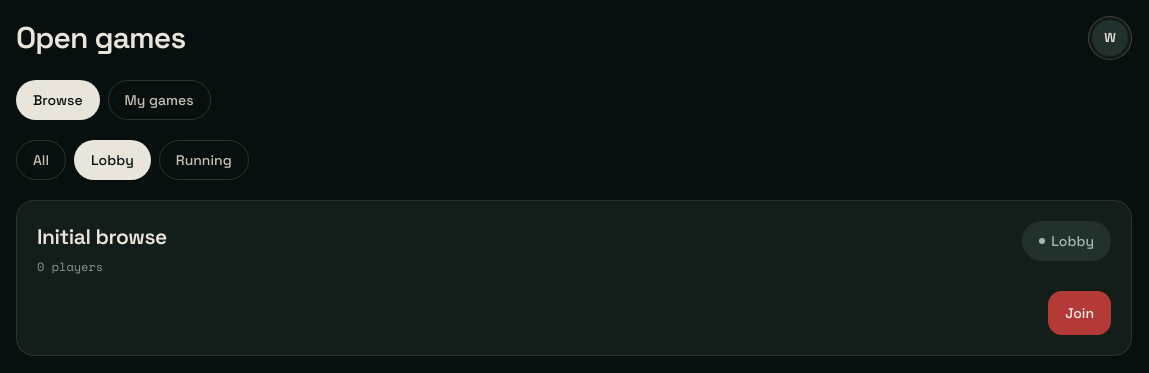
Test case: browser: ignores a late My games response after switching back to Browse
Expected: the heading "Initial browse" is shown, 37,221 -> 167,252
Click the tab "My games": (159, 100) 108,80 -> 211,120
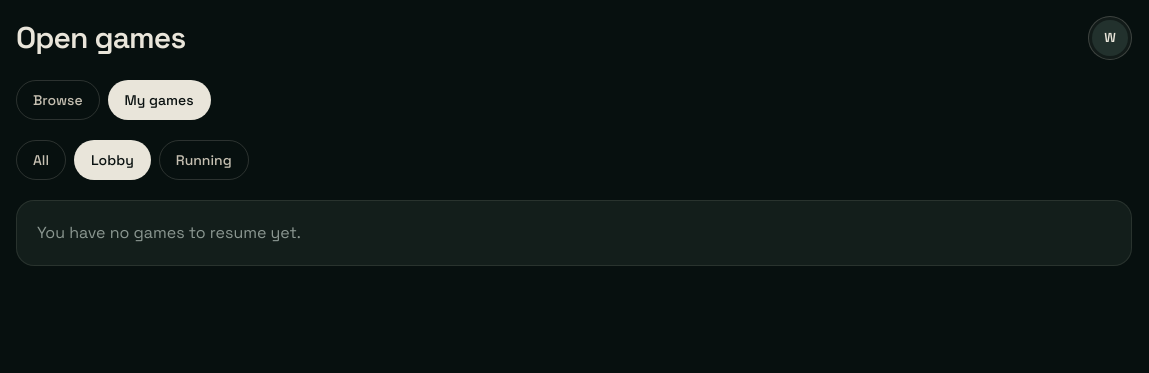
Click the tab "Browse": (58, 100) 16,80 -> 100,120
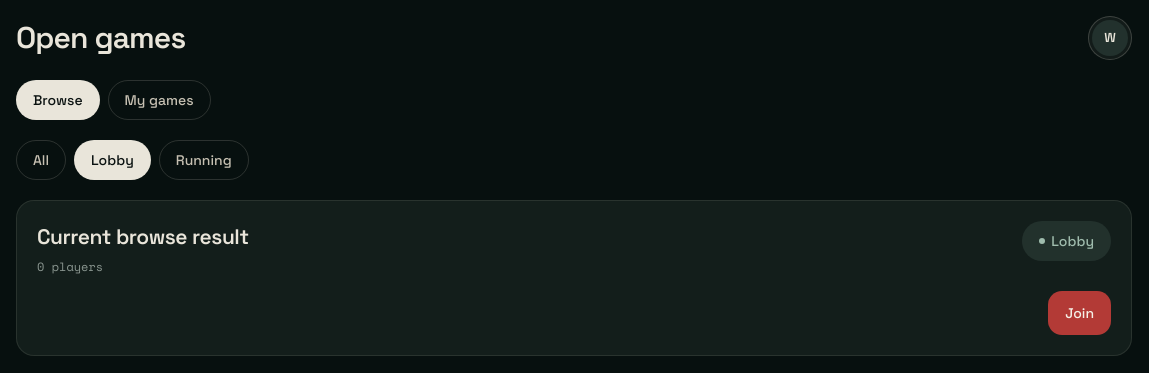
Expected: the heading "Current browse result" is shown, 37,221 -> 249,252
